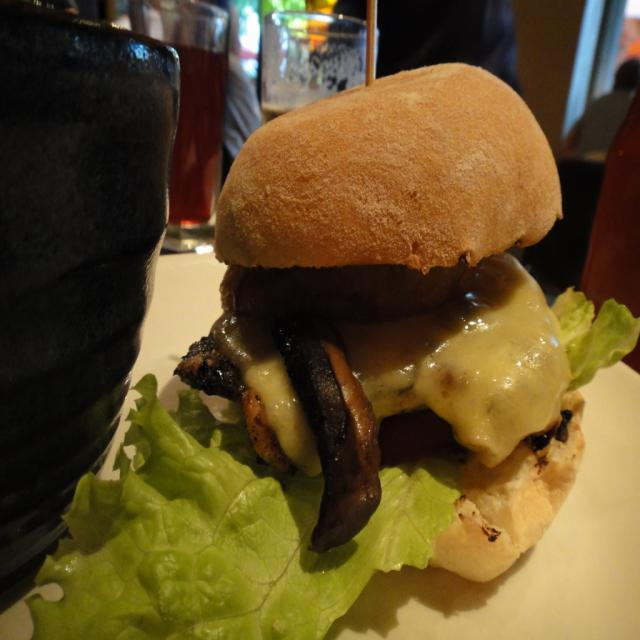Hamburger: (28, 62, 640, 640)
